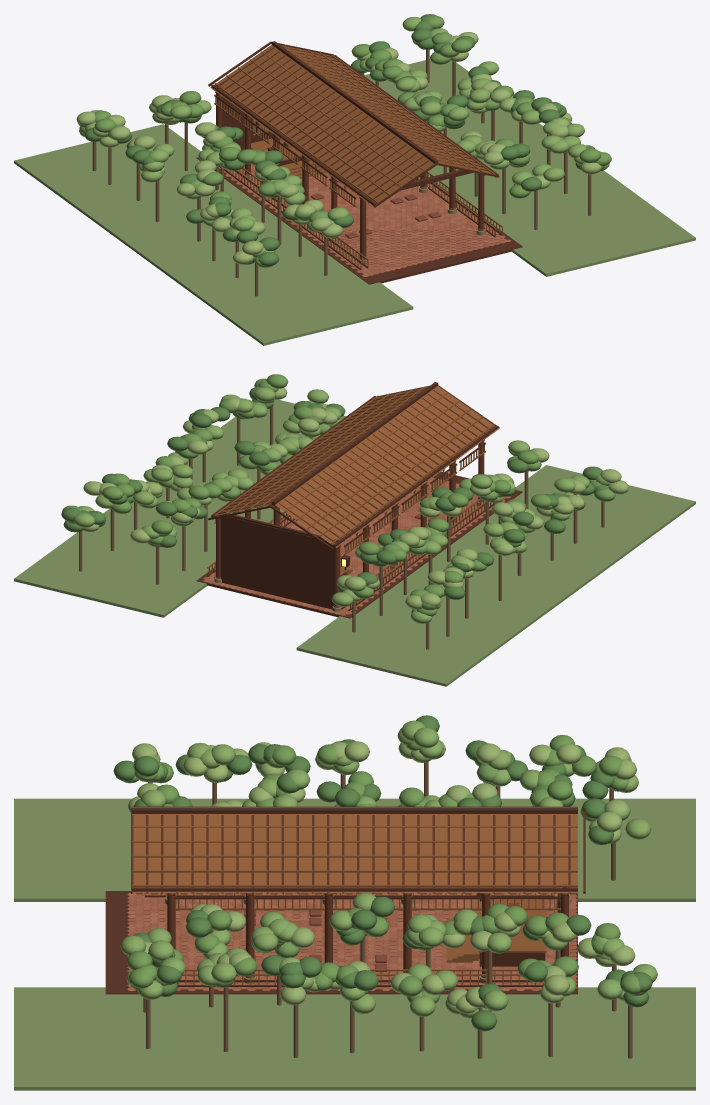
File: giang-duong-web.glb
3 renders of one model, top to bottom at view 1: azimuth 30°, elevation 25°; view 2: azimuth 150°, elevation 25°; view 3: azimuth 270°, elevation 25°, orthographic. The views are drawn at different scales.
Visible parts, largest first — view 1: Nhóm vật liệu Nền vườn, Nhóm vật liệu Gỗ sáng, Nhóm vật liệu Gỗ dầm, Sàn gạch lục giác, Nhóm vật liệu Lá vườn 2, Nhóm vật liệu Lá vườn 3, Nhóm vật liệu Lá vườn 0, Nhóm vật liệu Lá vườn 1, Nhóm vật liệu Vỏ cây, Nhóm vật liệu Gỗ cột nâu đỏ; view 2: Nhóm vật liệu Nền vườn, Nhóm vật liệu Gỗ sáng, Nhóm vật liệu Gỗ dầm, Nhóm vật liệu Lá vườn 2, Nhóm vật liệu Lá vườn 1, Nhóm vật liệu Lá vườn 3, Nhóm vật liệu Lá vườn 0, Sàn gạch lục giác, Nhóm vật liệu Vỏ cây, Nhóm vật liệu Gỗ cột nâu đỏ; view 3: Nhóm vật liệu Nền vườn, Nhóm vật liệu Gỗ sáng, Nhóm vật liệu Gỗ dầm, Nhóm vật liệu Lá vườn 2, Nhóm vật liệu Lá vườn 0, Nhóm vật liệu Lá vườn 3, Sàn gạch lục giác, Nhóm vật liệu Lá vườn 1, Nhóm vật liệu Vỏ cây, Nhóm vật liệu Gỗ cột nâu đỏ.
Part boxes in pixels (<box>): Nhóm vật liệu Nền vườn: <box>14,59,695,345</box>; Nhóm vật liệu Gỗ sáng: <box>210,45,502,269</box>; Nhóm vật liệu Gỗ dầm: <box>196,41,522,284</box>; Sàn gạch lục giác: <box>219,164,510,276</box>; Nhóm vật liệu Lá vườn 2: <box>79,17,609,267</box>; Nhóm vật liệu Lá vườn 3: <box>76,32,601,264</box>; Nhóm vật liệu Lá vườn 0: <box>84,14,604,266</box>; Nhóm vật liệu Lá vườn 1: <box>77,15,611,264</box>; Nhóm vật liệu Vỏ cây: <box>92,49,591,296</box>; Nhóm vật liệu Gỗ cột nâu đỏ: <box>216,92,484,258</box>; Nhóm vật liệu Nền vườn: <box>14,399,695,686</box>; Nhóm vật liệu Gỗ sáng: <box>207,385,499,608</box>; Nhóm vật liệu Gỗ dầm: <box>196,382,522,618</box>; Nhóm vật liệu Lá vườn 2: <box>67,387,610,623</box>; Nhóm vật liệu Lá vườn 1: <box>62,374,615,616</box>; Nhóm vật liệu Lá vườn 3: <box>83,387,628,609</box>; Nhóm vật liệu Lá vườn 0: <box>61,386,608,599</box>; Sàn gạch lục giác: <box>203,477,510,615</box>; Nhóm vật liệu Vỏ cây: <box>79,404,604,649</box>; Nhóm vật liệu Gỗ cột nâu đỏ: <box>216,441,484,606</box>; Nhóm vật liệu Nền vườn: <box>14,798,695,1090</box>; Nhóm vật liệu Gỗ sáng: <box>132,807,577,985</box>; Nhóm vật liệu Gỗ dầm: <box>105,806,585,994</box>; Nhóm vật liệu Lá vườn 2: <box>120,720,657,1018</box>; Nhóm vật liệu Lá vườn 0: <box>113,715,652,1031</box>; Nhóm vật liệu Lá vườn 3: <box>126,740,636,1013</box>; Sàn gạch lục giác: <box>127,892,577,990</box>; Nhóm vật liệu Lá vườn 1: <box>126,735,640,1003</box>; Nhóm vật liệu Vỏ cây: <box>143,762,632,1058</box>; Nhóm vật liệu Gỗ cột nâu đỏ: <box>167,894,568,976</box>.
Size of the model in its own units: 52 by 11.56 by 52.
